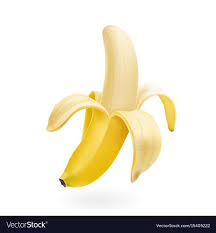banana: (47, 25, 178, 188)
